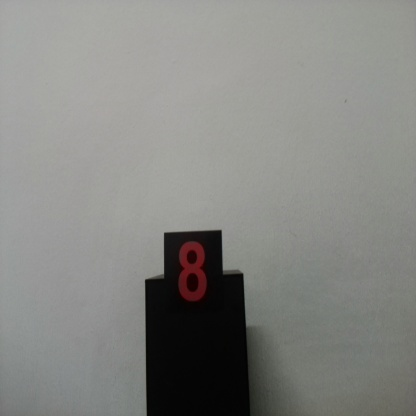id_8: (164, 234, 223, 320)
